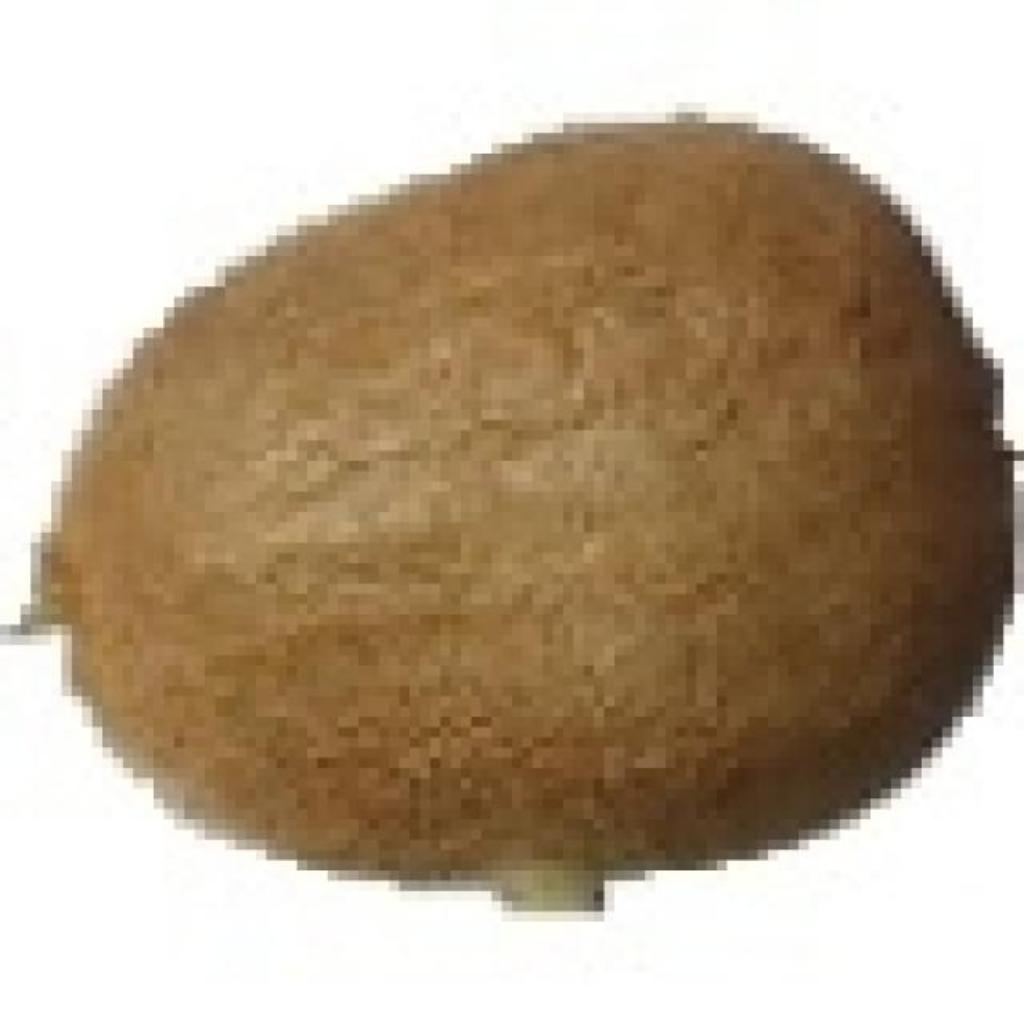kiwi: (31, 113, 993, 891)
